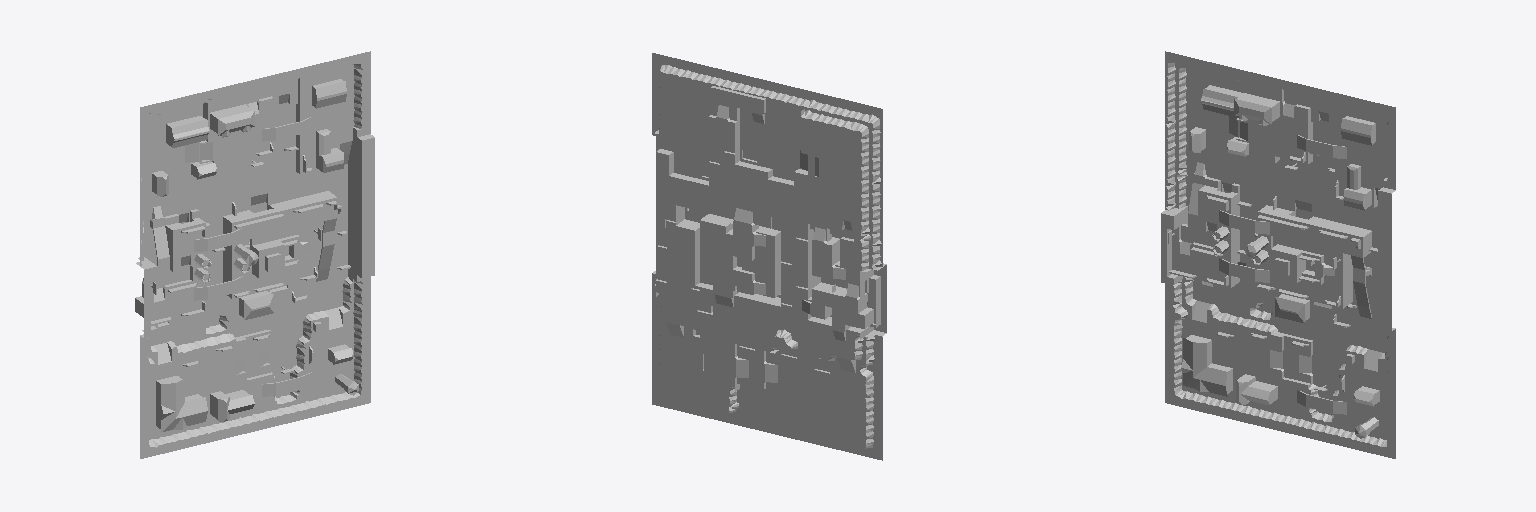
Rendered from map.obj.
3 views of the same model, side by side, from view 1: azimuth 30°, elevation 25°; view 2: azimuth 150°, elevation 25°; view 3: azimuth 330°, elevation 25° (orthographic).
Parts seen in each view (by area): view 1: NuBu_14_Clone_, NuBu_6_Clone_, NuBu_8_Clone_, NuBu_10_Clone_, NuBu_3_Clone_, NuBu_12_Clone_, NuBu_4_Clone_; view 2: none; view 3: NuBu_14_Clone_, NuBu_6_Clone_, NuBu_10_Clone_, NuBu_3_Clone_, NuBu_8_Clone_, NuBu_12_Clone_, NuBu_4_Clone_.
Boxes of the visible parts, <box> form: NuBu_14_Clone_: <box>156,376,207,432</box>; NuBu_6_Clone_: <box>210,104,254,137</box>; NuBu_8_Clone_: <box>166,116,209,147</box>; NuBu_10_Clone_: <box>210,390,254,421</box>; NuBu_3_Clone_: <box>316,129,343,172</box>; NuBu_12_Clone_: <box>239,291,273,319</box>; NuBu_4_Clone_: <box>312,79,346,108</box>; NuBu_14_Clone_: <box>1181,335,1232,396</box>; NuBu_6_Clone_: <box>1234,93,1279,125</box>; NuBu_10_Clone_: <box>1236,374,1277,405</box>; NuBu_3_Clone_: <box>1344,164,1371,210</box>; NuBu_8_Clone_: <box>1200,85,1242,117</box>; NuBu_12_Clone_: <box>1275,294,1309,323</box>; NuBu_4_Clone_: <box>1341,116,1375,145</box>.
Size of the model in its own units: 175 by 255 by 38.16.